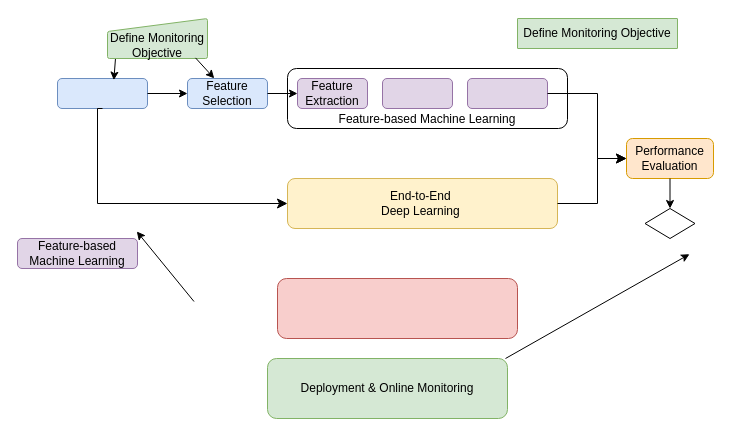
Image size: 731x436. Some labels were removed from this diagram. Here are the shapes that lost their labels. From the top down, the centre of each, then its label:
pixel 102 93: Sensor & Signal Selection
pixel 417 93: Pattern Matching
pixel 507 93: Classification / Regression
pixel 397 308: Model Training (ML / DL)
